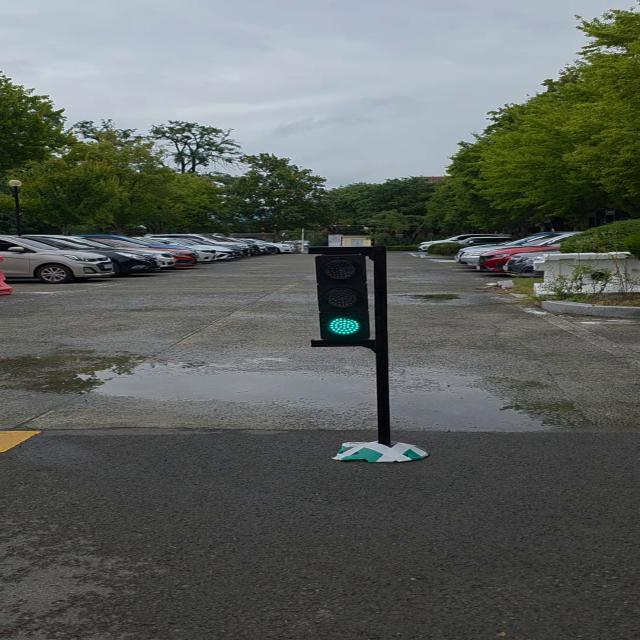green: (316, 248, 384, 346)
